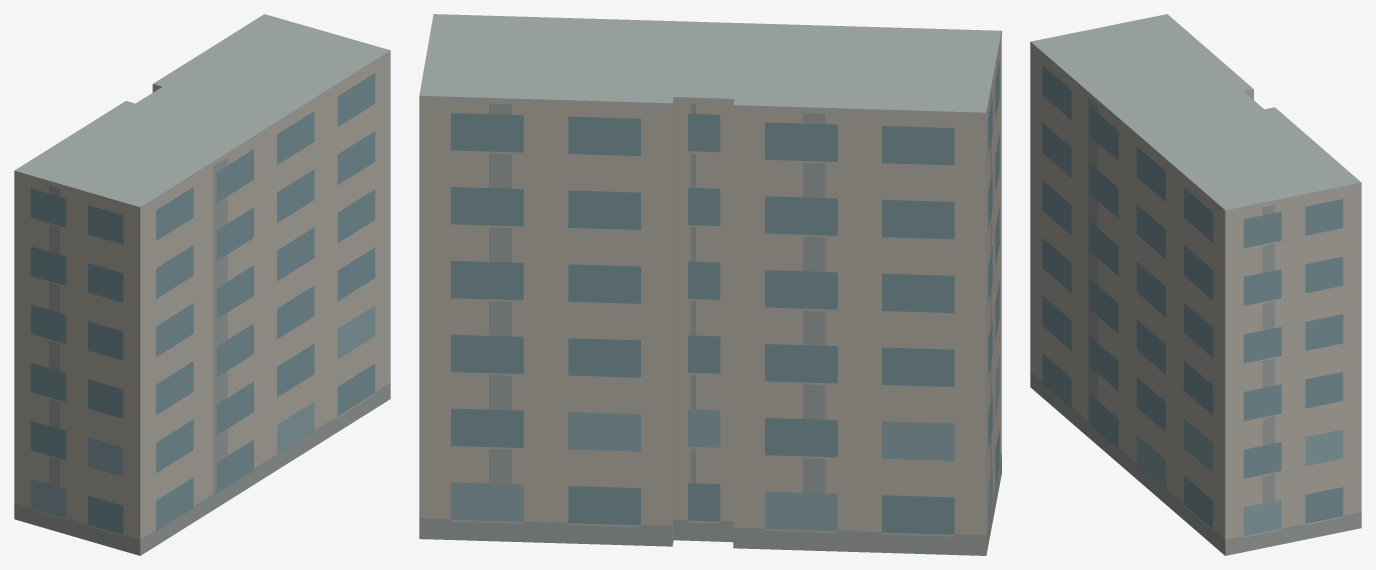
Rendered from survey-upis-32697622.glb.
3 views of the same model, side by side, from view 1: azimuth 30°, elevation 25°; view 2: azimuth 150°, elevation 25°; view 3: azimuth 270°, elevation 25° (orthographic). The views are drawn at different scales.
Parts seen in each view (by area): view 1: survey-upis-32697622.tmp; view 2: survey-upis-32697622.tmp; view 3: survey-upis-32697622.tmp.
Part boxes in pixels (x1=…): survey-upis-32697622.tmp: x1=14, y1=14, x2=390, y2=555; survey-upis-32697622.tmp: x1=419, y1=14, x2=1001, y2=555; survey-upis-32697622.tmp: x1=1030, y1=14, x2=1361, y2=555.
Size of the model in its own units: 22.29 by 18.3 by 15.89.
